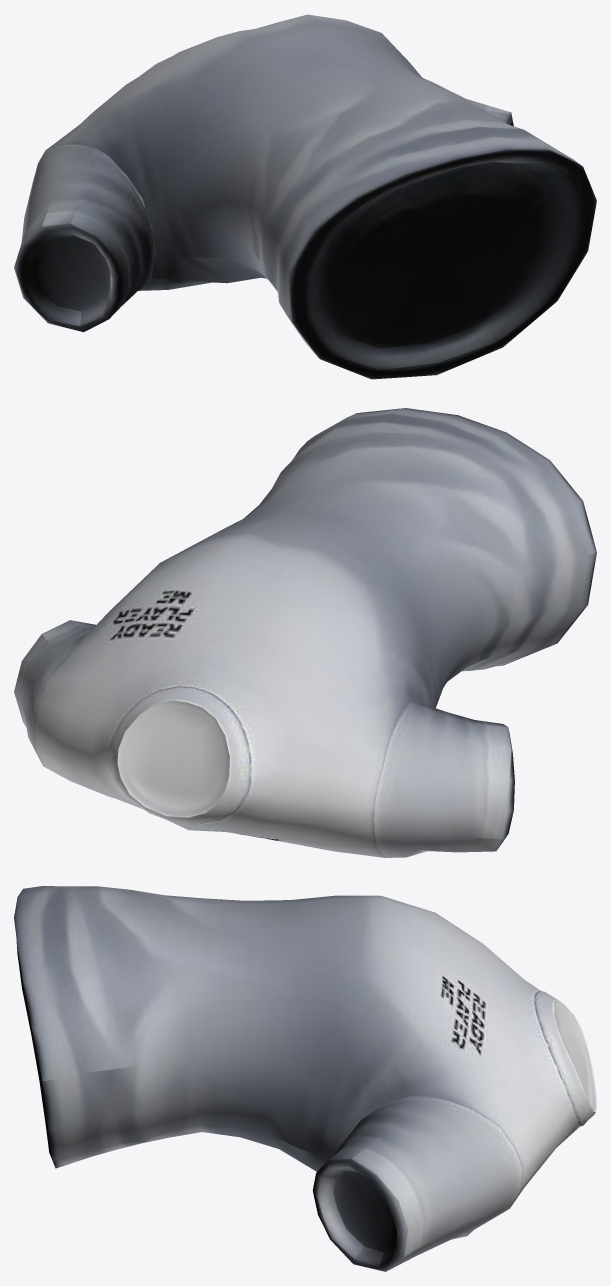
File: Female_Argentina_Body.fbx
The picture shows the model from 3 angles, top to bottom: view 1: azimuth 30°, elevation 25°; view 2: azimuth 150°, elevation 25°; view 3: azimuth 270°, elevation 25°; orthographic projection.
Parts seen in each view (by area): view 1: Wolf3D_Outfit_Top; view 2: Wolf3D_Outfit_Top; view 3: Wolf3D_Outfit_Top.
Boxes of the visible parts, box(x1,y1,x2,y2) form: Wolf3D_Outfit_Top: box(14, 14, 596, 379); Wolf3D_Outfit_Top: box(14, 408, 596, 857); Wolf3D_Outfit_Top: box(14, 886, 596, 1271).
Bounding box in the file's own units: 48.4 × 23.96 × 49.41.
